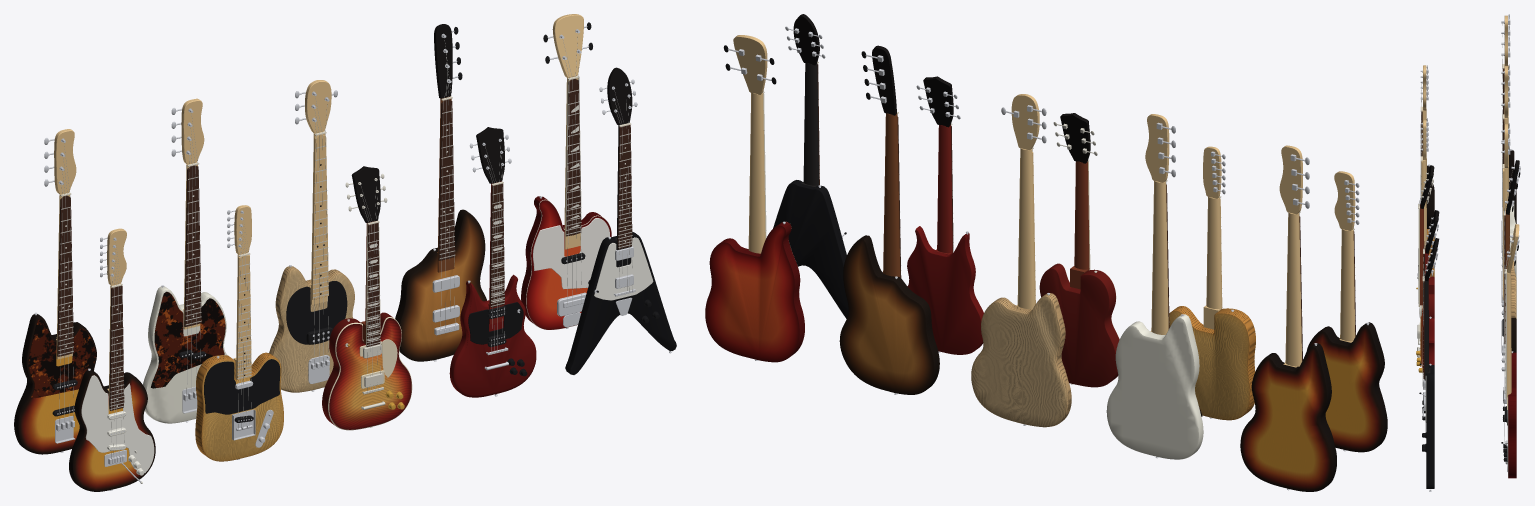
File: BandInstruments.fbx
3 renders of one model, left to right at view 1: azimuth 30°, elevation 25°; view 2: azimuth 150°, elevation 25°; view 3: azimuth 270°, elevation 25°, orthographic. The views are drawn at different scales.
Parts seen in each view (by area): view 1: Tempest_Body, Heritage_Top, CrimsonHorn_Body, Valkyrie_Body, Prairie_Body, Skyline_Body, Manta_Body, Foundation_Guard, Velvet_Body, Crestwave_Body, Skyline_Guard, Foundation_Body (+40 smaller); view 2: Foundation_Body, Velvet_Body, Tempest_Body, Crestwave_Body, Manta_Body, Skyline_Body, Heritage_Body, CrimsonHorn_Body, Prairie_Body, Valkyrie_Body, Crestwave_Neck, Manta_Neck (+12 smaller); view 3: Valkyrie_Body, Crestwave_Body, Crestwave_Neck, Valkyrie_Neck, Prairie_Neck, Manta_Neck, Heritage_Neck, Crestwave_Binding, Foundation_Neck, Manta_Body, Skyline_Body, Velvet_Neck (+30 smaller).
Part boxes in pixels (x1,y1,x2,y2): Tempest_Body: (395, 209, 486, 361); Heritage_Top: (329, 318, 411, 429); CrimsonHorn_Body: (449, 274, 536, 397); Valkyrie_Body: (565, 231, 676, 374); Prairie_Body: (195, 352, 283, 461); Skyline_Body: (69, 370, 155, 491); Manta_Body: (269, 266, 354, 392); Foundation_Guard: (151, 291, 225, 388); Velvet_Body: (14, 314, 96, 454); Crestwave_Body: (521, 196, 611, 329); Skyline_Guard: (81, 375, 154, 473); Foundation_Body: (143, 286, 226, 423); Foundation_Body: (1106, 314, 1203, 459); Velvet_Body: (1240, 343, 1336, 491); Tempest_Body: (839, 235, 939, 394); Crestwave_Body: (705, 221, 804, 362); Manta_Body: (971, 293, 1071, 427); Skyline_Body: (1307, 322, 1387, 452); Heritage_Body: (1039, 263, 1119, 387); CrimsonHorn_Body: (907, 226, 983, 354); Prairie_Body: (1169, 306, 1255, 420); Valkyrie_Body: (773, 180, 848, 318); Crestwave_Neck: (733, 35, 767, 253); Manta_Neck: (1011, 94, 1039, 309); Valkyrie_Body: (1426, 365, 1434, 488); Crestwave_Body: (1508, 352, 1516, 478); Crestwave_Neck: (1507, 224, 1519, 409); Valkyrie_Neck: (1424, 277, 1430, 380); Prairie_Neck: (1422, 120, 1426, 248); Manta_Neck: (1504, 124, 1508, 210); Heritage_Neck: (1420, 204, 1424, 305); Crestwave_Binding: (1505, 274, 1508, 477); Foundation_Neck: (1504, 66, 1508, 195); Manta_Body: (1511, 260, 1516, 318); Skyline_Body: (1426, 165, 1434, 228); Velvet_Neck: (1504, 15, 1509, 181).
Bounding box in the file's own units: 8.52 × 4.44 × 1.6.
Materials: 113 (9 with a texture image).
